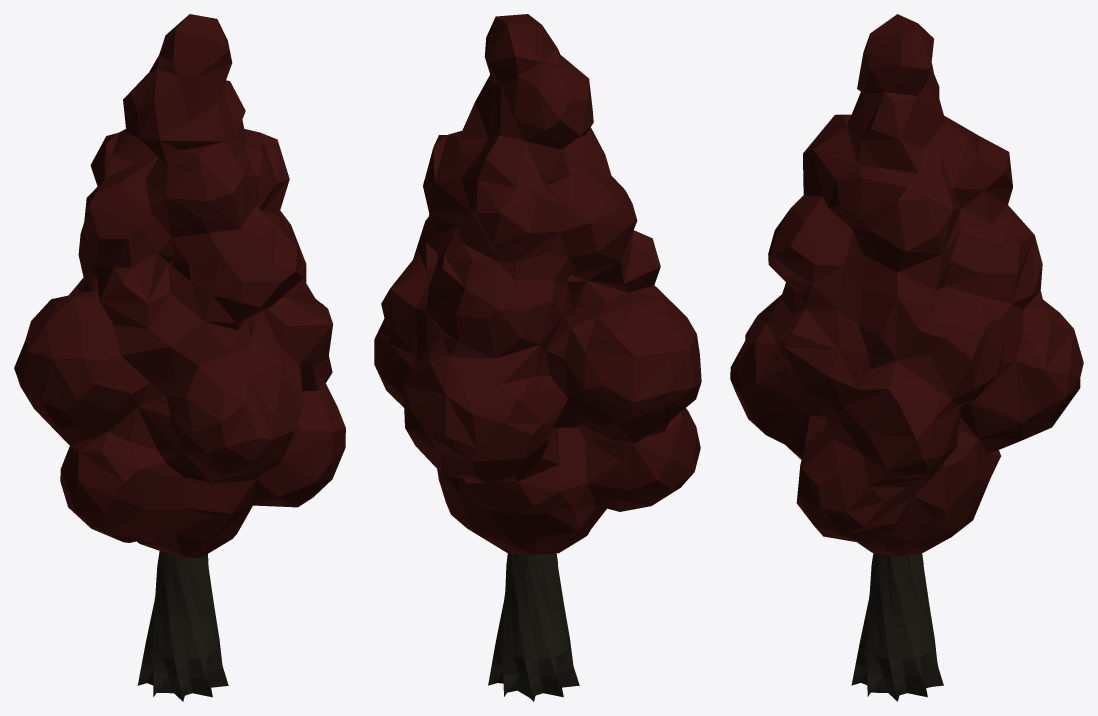
Rendered from IceCremept2.obj.
3 views of the same model, side by side, from view 1: azimuth 30°, elevation 25°; view 2: azimuth 150°, elevation 25°; view 3: azimuth 270°, elevation 25° (orthographic).
Visible parts, largest first — view 1: polySurface43, polySurface21 pSphere23; view 2: polySurface43, polySurface21 pSphere23; view 3: polySurface43, polySurface21 pSphere23.
Part boxes in pixels (bbox=[...]): polySurface43: bbox=[14, 14, 345, 558]; polySurface21 pSphere23: bbox=[137, 551, 228, 701]; polySurface43: bbox=[374, 14, 701, 554]; polySurface21 pSphere23: bbox=[488, 553, 579, 701]; polySurface43: bbox=[730, 14, 1083, 556]; polySurface21 pSphere23: bbox=[851, 553, 943, 701].
Size of the model in its own units: 17.99 by 36.53 by 17.55.
